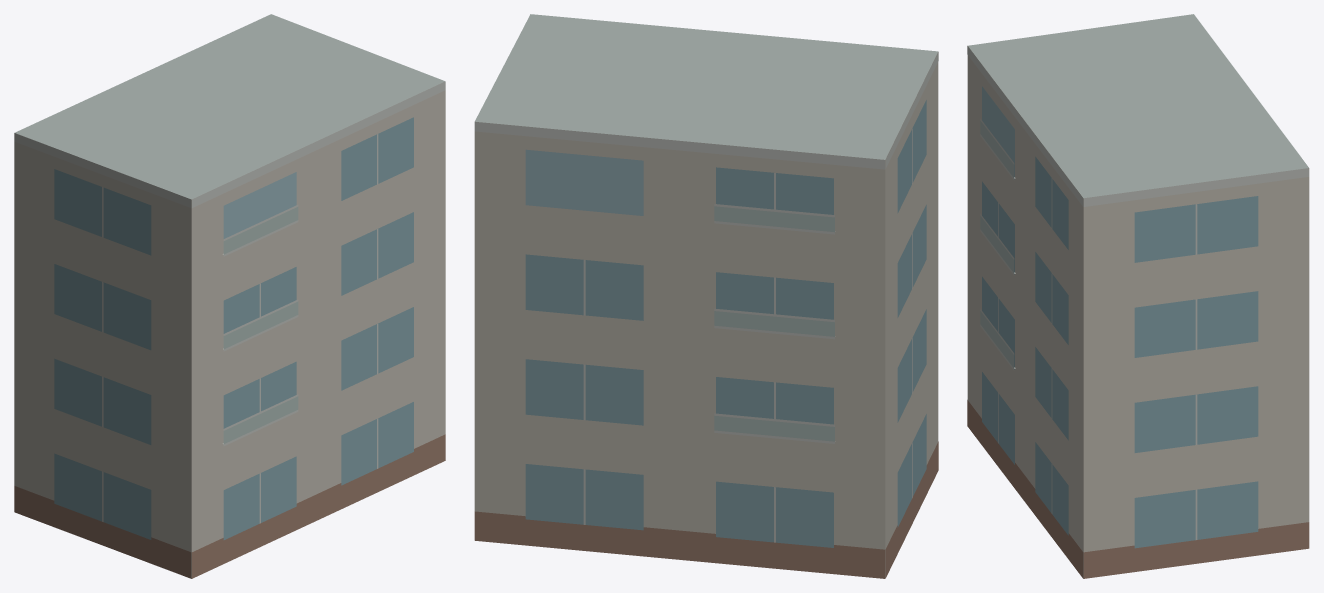
File: survey-upis-32684520.glb
3 renders of one model, left to right at view 1: azimuth 30°, elevation 25°; view 2: azimuth 150°, elevation 25°; view 3: azimuth 270°, elevation 25°, orthographic. The views are drawn at different scales.
Parts seen in each view (by area): view 1: survey-upis-32684520.tmp; view 2: survey-upis-32684520.tmp; view 3: survey-upis-32684520.tmp.
Part boxes in pixels (x1,y1,x2,y2): survey-upis-32684520.tmp: (14,14,445,578); survey-upis-32684520.tmp: (474,14,938,578); survey-upis-32684520.tmp: (967,14,1309,578).
Bounding box in the file's own units: 10.91 × 10.5 × 8.55.
